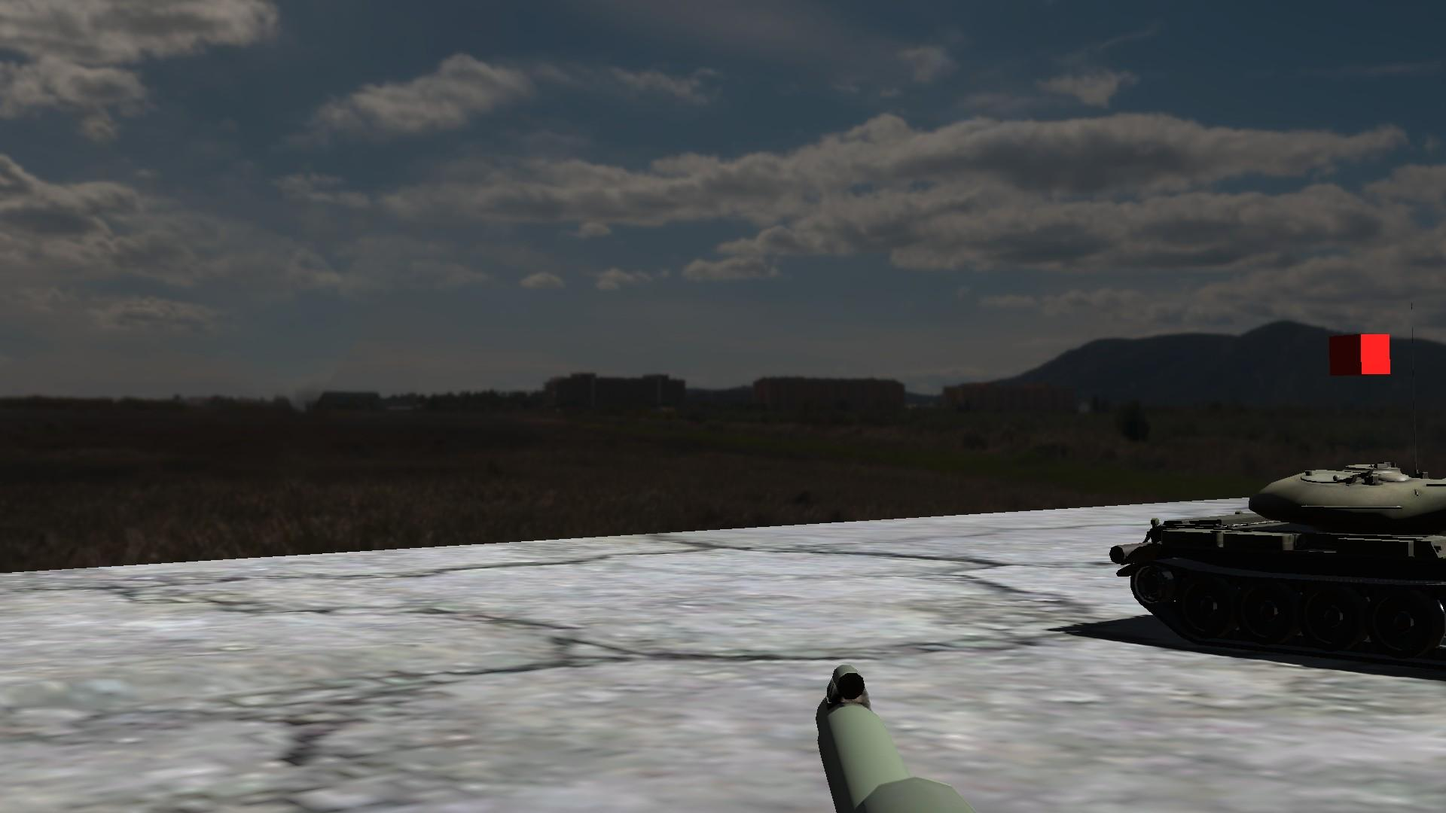Tank: (1103, 443, 1446, 687)
